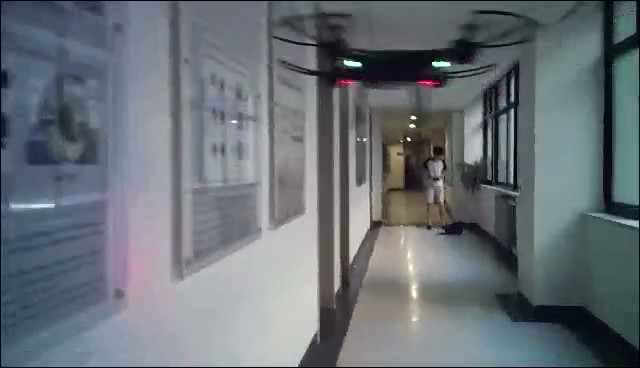drone: (265, 10, 545, 128)
person: (422, 145, 451, 231)
